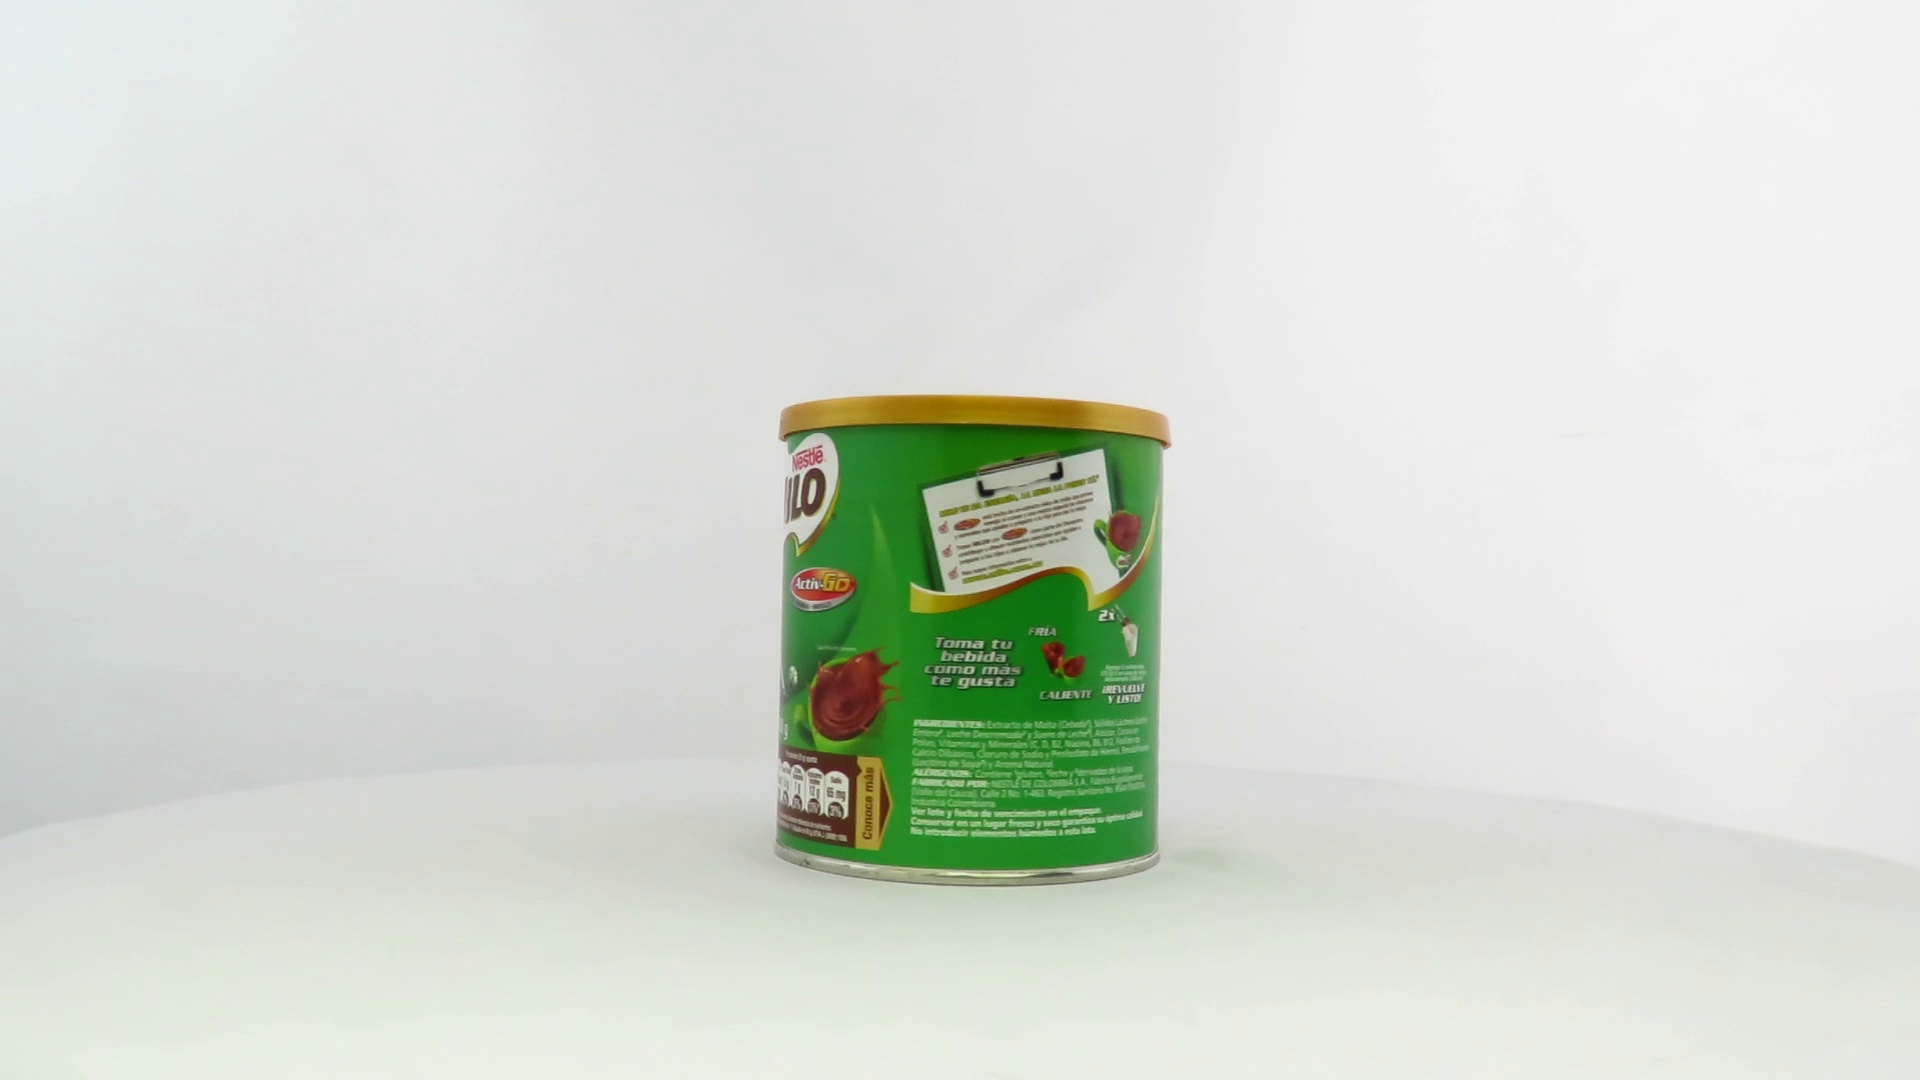COL0170203LAT40000: (767, 389, 1178, 894)
